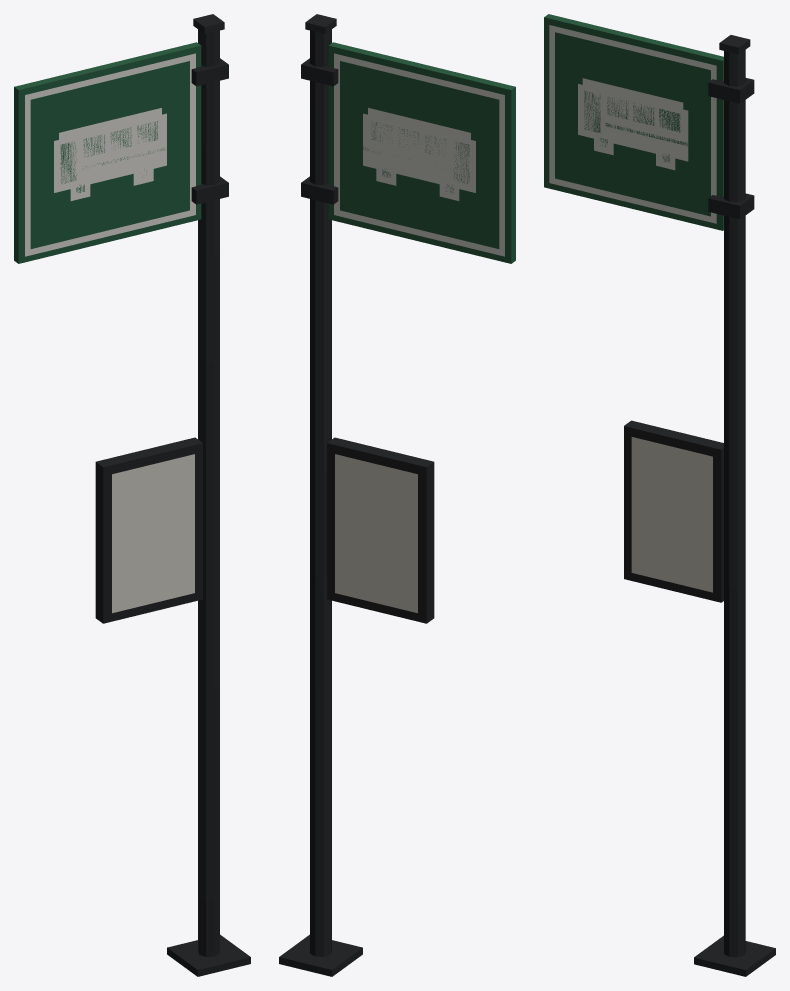
File: street.bus_stop.green.glb
3 renders of one model, left to right at view 1: azimuth 30°, elevation 25°; view 2: azimuth 150°, elevation 25°; view 3: azimuth 330°, elevation 25°, orthographic. The views are drawn at different scales.
Visible parts, largest first — view 1: street_bus_stop_green; view 2: street_bus_stop_green; view 3: street_bus_stop_green.
Part boxes in pixels (x1,y1,x2,y2): street_bus_stop_green: (14,14,250,976); street_bus_stop_green: (279,14,515,976); street_bus_stop_green: (544,14,775,976).
Size of what is drawn, in the model's own units: 0.66 by 2.7 by 0.16.
